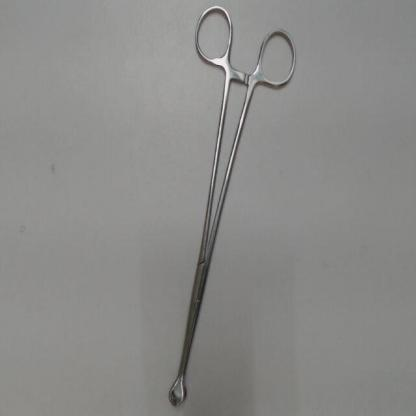8 Babcock Tissue Forceps: (163, 0, 303, 413)
